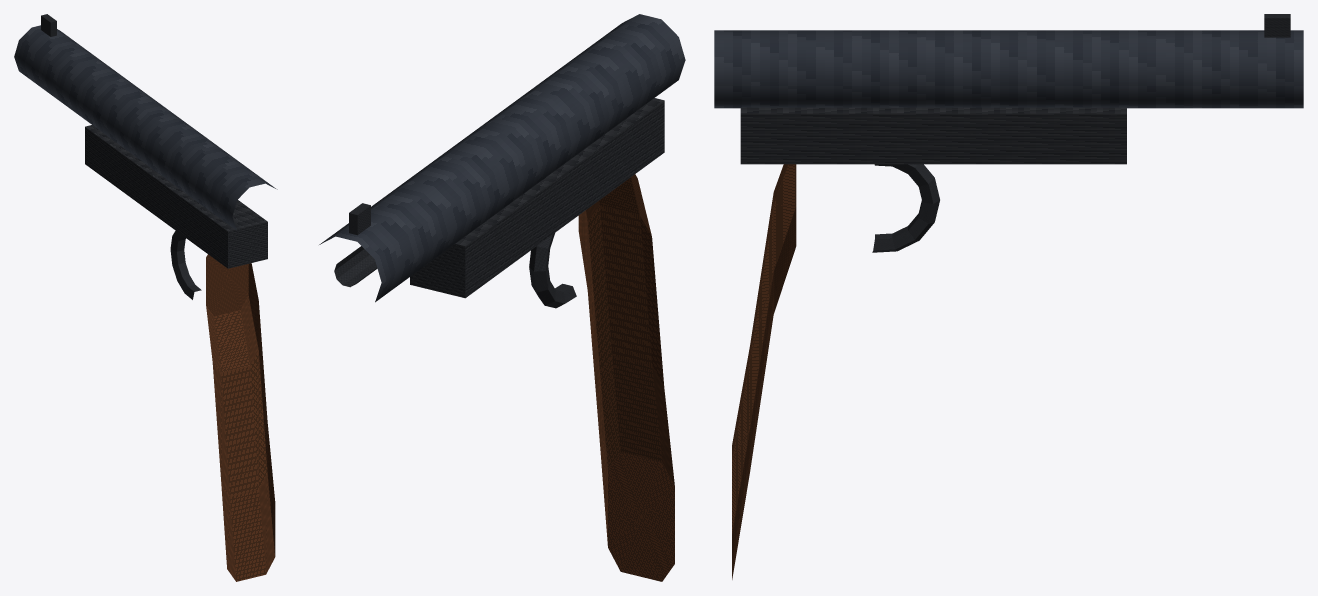
Rendered from browning_m1922.glb.
3 renders of one model, left to right at view 1: azimuth 30°, elevation 25°; view 2: azimuth 150°, elevation 25°; view 3: azimuth 270°, elevation 25°, orthographic. The views are drawn at different scales.
Parts seen in each view (by area): view 1: WeaponMesh; view 2: WeaponMesh; view 3: WeaponMesh.
Part boxes in pixels (bbox=[...]): WeaponMesh: bbox=[14, 14, 277, 581]; WeaponMesh: bbox=[319, 14, 685, 581]; WeaponMesh: bbox=[714, 14, 1303, 579].
Size of the model in its own units: 0.024 by 0.1874 by 0.18.
Materials: 3 (3 with a texture image).
